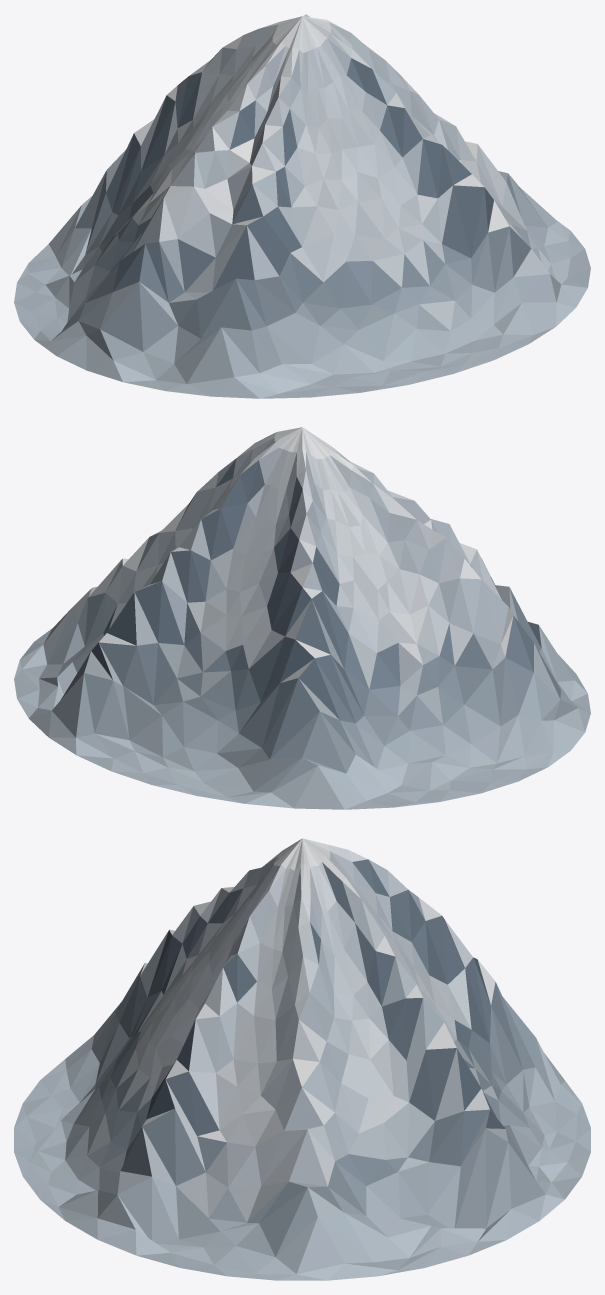
The model's file is mountain_ice.glb.
3 views of the same model, one above another, from view 1: azimuth 30°, elevation 25°; view 2: azimuth 150°, elevation 25°; view 3: azimuth 270°, elevation 25° (orthographic). The views are drawn at different scales.
Parts seen in each view (by area): view 1: mountain_ice; view 2: mountain_ice; view 3: mountain_ice.
Boxes of the visible parts, x1,y1,x2,y2 form: mountain_ice: (14, 14, 590, 398); mountain_ice: (14, 427, 590, 809); mountain_ice: (14, 838, 590, 1280).
Size of the model in its own units: 188 by 93.75 by 162.
